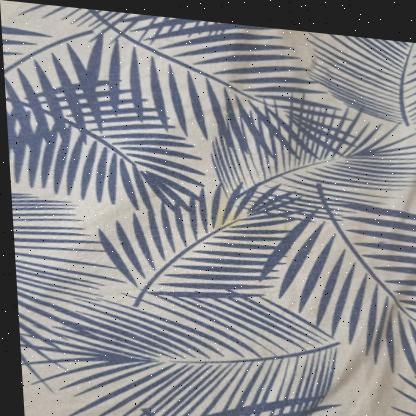spot: (201, 197, 248, 229), (218, 75, 243, 101)
